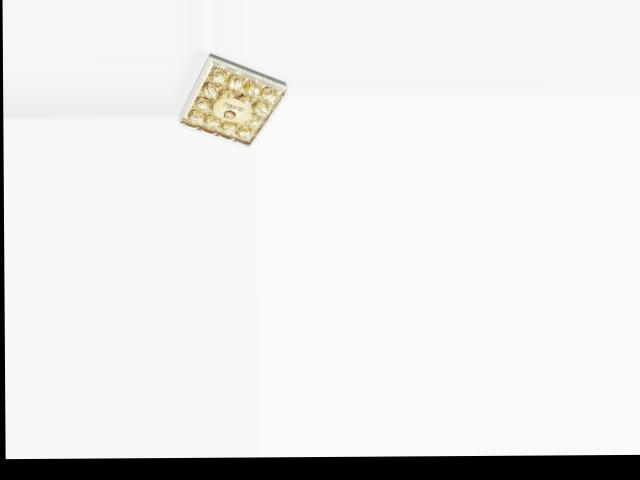chocolate: (176, 50, 289, 149)
